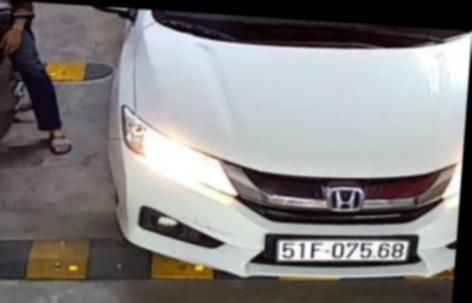License_Plate: (272, 227, 410, 270)
